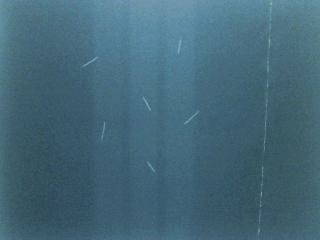crack: (252, 0, 281, 240)
scratch: (183, 108, 200, 125), (144, 159, 158, 177), (80, 55, 99, 68), (98, 120, 107, 144), (141, 95, 153, 112), (176, 37, 184, 57)
